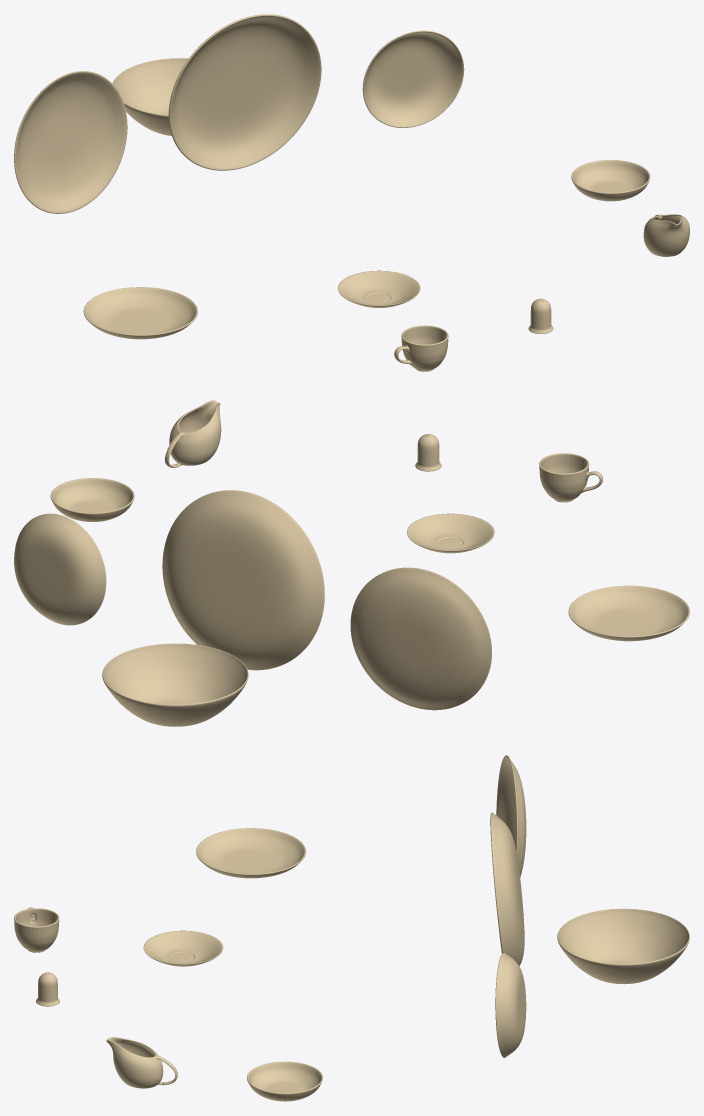
The model's file is set-front.glb.
3 renders of one model, top to bottom at view 1: azimuth 30°, elevation 25°; view 2: azimuth 150°, elevation 25°; view 3: azimuth 270°, elevation 25°, orthographic. The views are drawn at different scales.
Visible parts, largest first — view 1: Circle.006, Circle.005, Circle.003, Circle.004, Circle, Circle.002, NAALBAKI, CUP, Cylinder.007, Salt Shaker 0; view 2: Circle.006, Circle.005, Circle, Circle.003, Circle.004, Circle.002, NAALBAKI, Cylinder.007, CUP, Salt Shaker 0; view 3: Circle, Circle.004, Circle.006, Circle.003, Circle.002, NAALBAKI, Cylinder.007, Circle.005, CUP, Salt Shaker 0.
Part boxes in pixels (left/top/right/bottom): Circle.006: left=168, top=14, right=321, bottom=170; Circle.005: left=14, top=71, right=127, bottom=213; Circle.003: left=362, top=30, right=464, bottom=127; Circle.004: left=83, top=287, right=197, bottom=339; Circle: left=112, top=58, right=188, bottom=135; Circle.002: left=571, top=160, right=650, bottom=201; NAALBAKI: left=338, top=270, right=420, bottom=307; CUP: left=394, top=325, right=448, bottom=371; Cylinder.007: left=643, top=214, right=689, bottom=256; Salt Shaker 0: left=528, top=298, right=553, bottom=333; Circle.006: left=162, top=490, right=324, bottom=670; Circle.005: left=350, top=567, right=491, bottom=710; Circle: left=102, top=643, right=248, bottom=726; Circle.003: left=14, top=513, right=106, bottom=625; Circle.004: left=568, top=585, right=689, bottom=641; Circle.002: left=50, top=478, right=134, bottom=521; NAALBAKI: left=407, top=513, right=494, bottom=553; Cylinder.007: left=165, top=400, right=221, bottom=467; CUP: left=539, top=453, right=602, bottom=502; Salt Shaker 0: left=415, top=434, right=441, bottom=471; Circle: left=557, top=908, right=689, bottom=984; Circle.004: left=196, top=828, right=306, bottom=878; Circle.006: left=490, top=812, right=524, bottom=965; Circle.003: left=495, top=953, right=526, bottom=1057; Circle.002: left=247, top=1061, right=322, bottom=1101; NAALBAKI: left=143, top=930, right=223, bottom=966; Cylinder.007: left=106, top=1037, right=177, bottom=1088; Circle.005: left=496, top=755, right=526, bottom=877; CUP: left=14, top=907, right=59, bottom=952; Salt Shaker 0: left=36, top=972, right=59, bottom=1006.
Size of the model in its own units: 1.12 by 0.3076 by 1.2.
